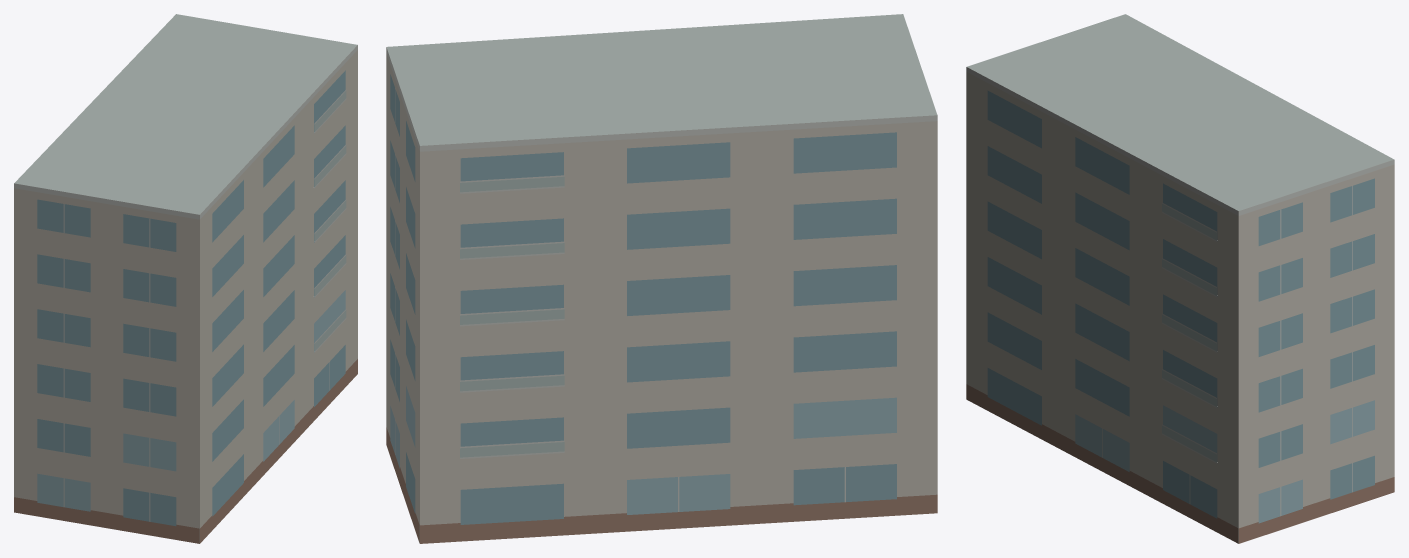
The model's file is survey-upis-32882341.glb.
The picture shows the model from 3 angles, left to right: view 1: azimuth 30°, elevation 25°; view 2: azimuth 150°, elevation 25°; view 3: azimuth 270°, elevation 25°; orthographic projection. The views are drawn at different scales.
Visible parts, largest first — view 1: survey-upis-32882341.tmp; view 2: survey-upis-32882341.tmp; view 3: survey-upis-32882341.tmp.
Boxes of the visible parts, bbox=[...] form: survey-upis-32882341.tmp: bbox=[14, 14, 357, 543]; survey-upis-32882341.tmp: bbox=[386, 14, 937, 543]; survey-upis-32882341.tmp: bbox=[966, 14, 1394, 543].
Size of the model in its own units: 21.24 by 16.7 by 19.48.
